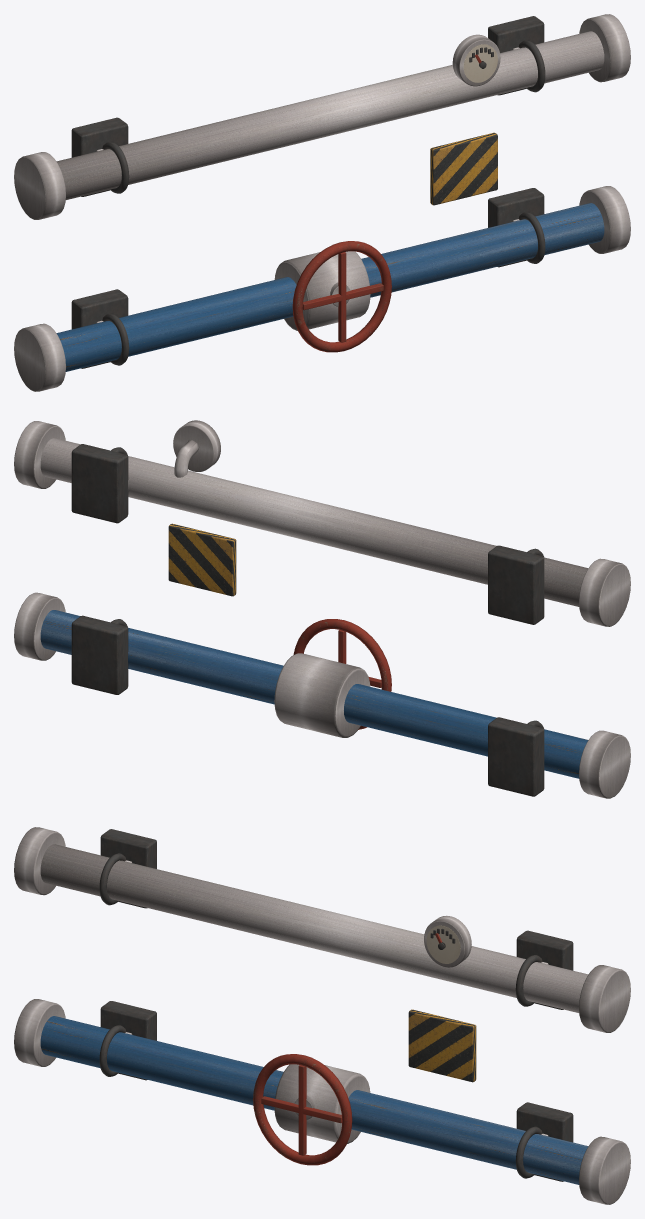
The model's file is SM_FacilityRooms_PipeRun.fbx.
3 renders of one model, top to bottom at view 1: azimuth 30°, elevation 25°; view 2: azimuth 150°, elevation 25°; view 3: azimuth 330°, elevation 25°, orthographic.
Visible parts, largest first — view 1: SM_FacilityRooms_PipeRun; view 2: SM_FacilityRooms_PipeRun; view 3: SM_FacilityRooms_PipeRun.
Part boxes in pixels (<box>): SM_FacilityRooms_PipeRun: <box>14,14,630,391</box>; SM_FacilityRooms_PipeRun: <box>14,420,630,798</box>; SM_FacilityRooms_PipeRun: <box>14,827,630,1204</box>.
Size of what is drawn, in the model's own units: 200 by 25 by 90.
